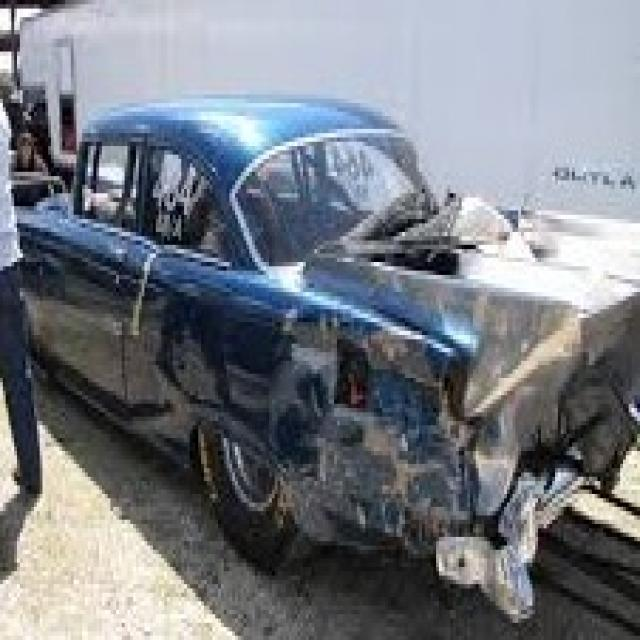moderate: (293, 166, 561, 516)
